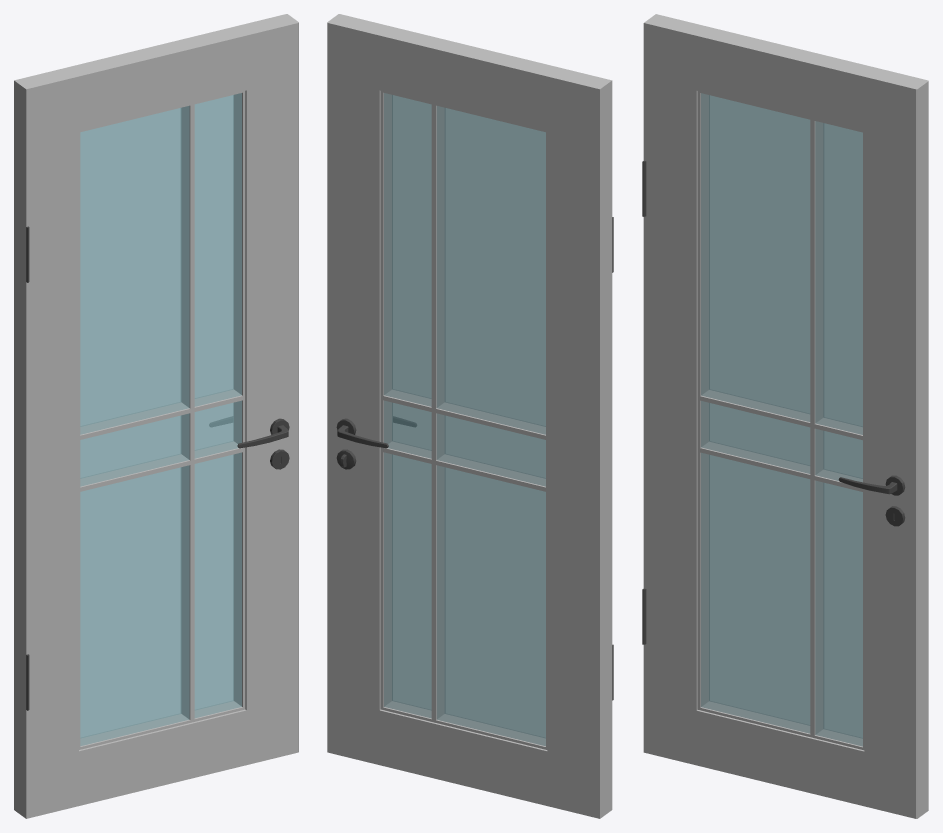
The model's file is LivingRoomDoor02.FBX.
3 renders of one model, left to right at view 1: azimuth 30°, elevation 25°; view 2: azimuth 150°, elevation 25°; view 3: azimuth 330°, elevation 25°, orthographic.
Visible parts, largest first — view 1: LivingRoomDoor02; view 2: LivingRoomDoor02; view 3: LivingRoomDoor02.
Boxes of the visible parts, left/top/right/bottom form: LivingRoomDoor02: left=14, top=14, right=298, bottom=818; LivingRoomDoor02: left=327, top=14, right=613, bottom=818; LivingRoomDoor02: left=642, top=14, right=928, bottom=818.
Bounding box in the file's own units: 78 × 15.48 × 199.
